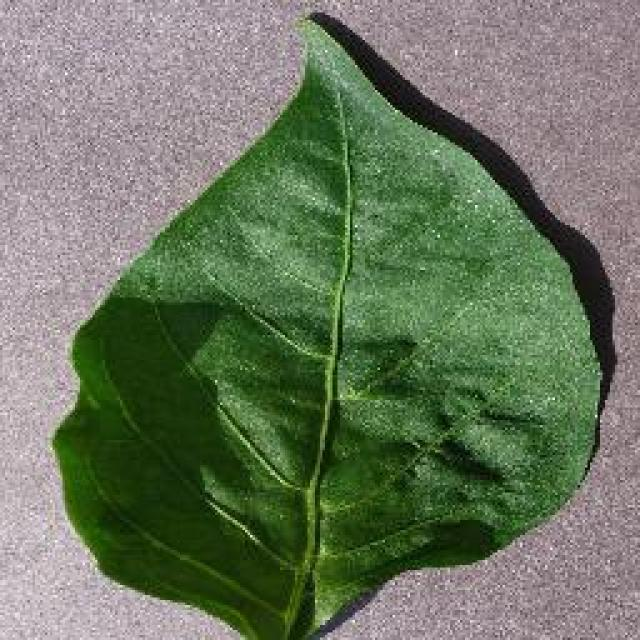Chilli_Healthy: (50, 10, 608, 638)
